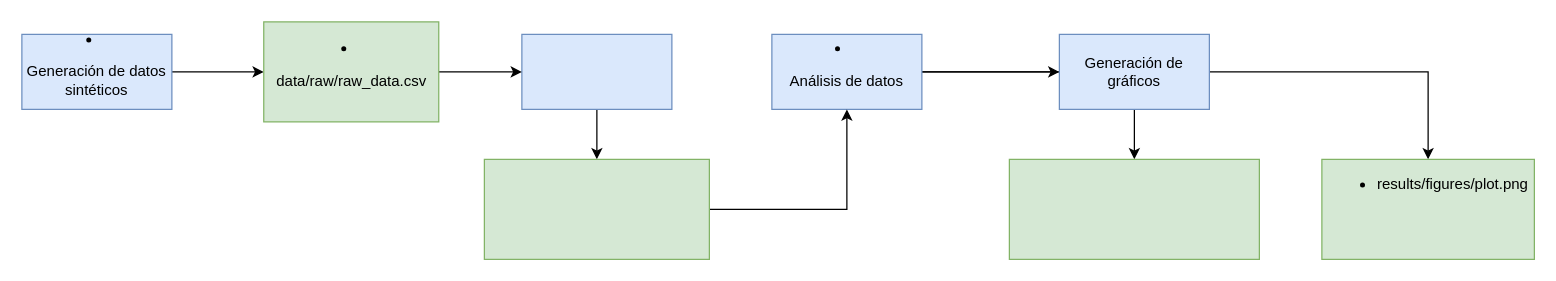
Some shapes in this 1556 by 281 pixel diagram are drawn without their labels. The shapes that lost their labels are listed below. From the top down, each one's centre as x and y in pixels, then its label:
At pixel 596 71: "Limpieza de datos".
At pixel 596 208: "data/processed/clean_data.csv".
At pixel 1133 208: "results/tables/summary_table.csv".
